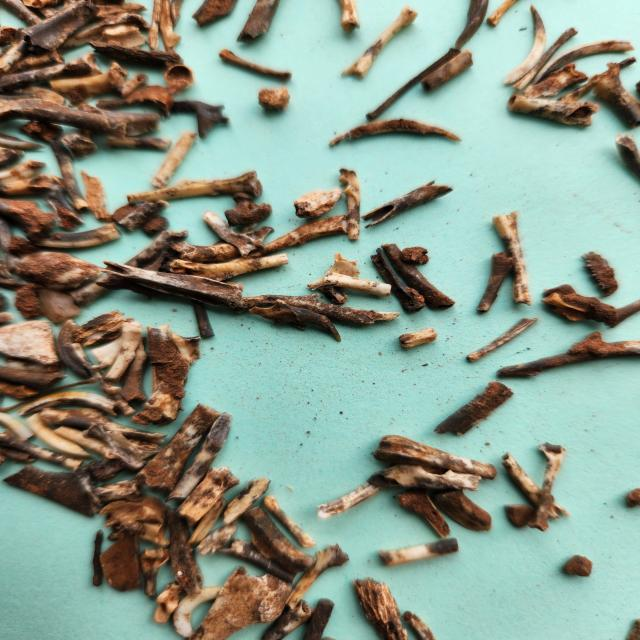fossil: (70, 224, 196, 308), (98, 252, 243, 318), (132, 399, 226, 495), (2, 455, 129, 524), (185, 563, 297, 640), (39, 406, 170, 468), (361, 44, 464, 122), (492, 329, 640, 383), (128, 322, 204, 424), (0, 93, 171, 138), (221, 212, 352, 270), (160, 411, 237, 506), (19, 114, 92, 213), (364, 431, 501, 481), (336, 6, 422, 82), (238, 290, 402, 328), (376, 238, 458, 312), (526, 37, 637, 91), (123, 166, 265, 206), (359, 176, 460, 232), (242, 502, 318, 574), (428, 379, 520, 438), (498, 449, 572, 522), (277, 540, 354, 609), (244, 294, 348, 345), (0, 374, 99, 424), (496, 2, 552, 89), (489, 208, 536, 310), (84, 37, 190, 82), (512, 24, 584, 90), (214, 535, 304, 587), (311, 469, 397, 522), (165, 249, 293, 284), (0, 51, 106, 93), (162, 506, 210, 598), (56, 9, 153, 54), (346, 574, 412, 640), (177, 461, 244, 526), (555, 56, 640, 107), (41, 61, 130, 109), (368, 246, 428, 317), (324, 118, 466, 148), (14, 247, 108, 292), (540, 280, 624, 330), (462, 314, 544, 364), (424, 481, 498, 536), (22, 0, 101, 51), (0, 317, 67, 377), (528, 439, 569, 537), (200, 209, 279, 259), (0, 427, 85, 473), (171, 582, 237, 640), (587, 58, 640, 127), (210, 44, 297, 86), (503, 90, 599, 128), (11, 390, 140, 418), (366, 462, 486, 492), (394, 484, 455, 540), (0, 190, 62, 245), (90, 320, 144, 382), (374, 533, 464, 570), (24, 412, 94, 458), (471, 248, 518, 316), (261, 494, 318, 550), (98, 531, 146, 597), (28, 222, 129, 252), (219, 472, 273, 528), (416, 48, 480, 95), (150, 129, 199, 190), (95, 80, 188, 112), (314, 251, 368, 305), (165, 98, 236, 139), (302, 269, 399, 299), (70, 307, 138, 349), (518, 61, 591, 100), (68, 342, 122, 394), (54, 316, 96, 382), (52, 423, 121, 460), (258, 596, 315, 640), (109, 197, 175, 234), (95, 495, 171, 527), (121, 332, 155, 403), (186, 496, 230, 550), (102, 516, 174, 548), (235, 0, 286, 44), (580, 248, 622, 300), (82, 471, 151, 502), (34, 286, 86, 327), (42, 189, 89, 234), (80, 170, 120, 222), (288, 185, 344, 222), (137, 543, 172, 601), (0, 216, 35, 274), (338, 166, 364, 244), (298, 594, 342, 640), (148, 577, 188, 627), (453, 0, 492, 51), (0, 171, 65, 200), (0, 363, 69, 390), (187, 0, 243, 33), (0, 49, 69, 75), (223, 193, 275, 227), (399, 605, 449, 640), (0, 153, 53, 186), (555, 548, 603, 584), (0, 0, 52, 33), (0, 259, 49, 294), (11, 82, 70, 111), (595, 295, 640, 333), (194, 521, 240, 558), (97, 133, 177, 154), (158, 0, 186, 56), (613, 132, 640, 189), (254, 84, 302, 116), (0, 27, 34, 72), (94, 24, 151, 50), (142, 0, 167, 56), (88, 528, 110, 591), (328, 0, 367, 35), (61, 128, 103, 160), (102, 376, 135, 416), (13, 281, 44, 323), (396, 324, 442, 352), (158, 60, 204, 88), (0, 408, 36, 443), (138, 246, 180, 274), (170, 329, 202, 365), (188, 303, 218, 341), (501, 501, 539, 531), (115, 70, 152, 97), (0, 129, 45, 151), (395, 242, 435, 266), (618, 478, 640, 516), (0, 381, 39, 401), (76, 101, 112, 119), (0, 448, 38, 464), (168, 0, 188, 28), (621, 615, 640, 640), (20, 0, 65, 10), (0, 312, 15, 326)
